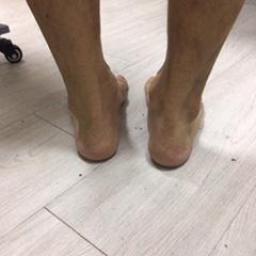Back View -Both Feet-: (49, 52, 222, 185)
